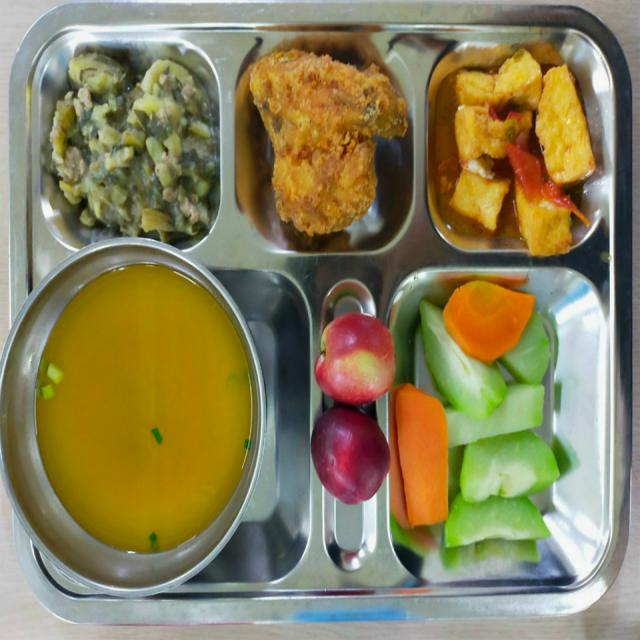ca rot: (443, 281, 534, 363), (396, 384, 448, 525)
canh bi do: (37, 266, 251, 552)
dau hu: (455, 49, 595, 256)
ga chien: (250, 50, 407, 236)
